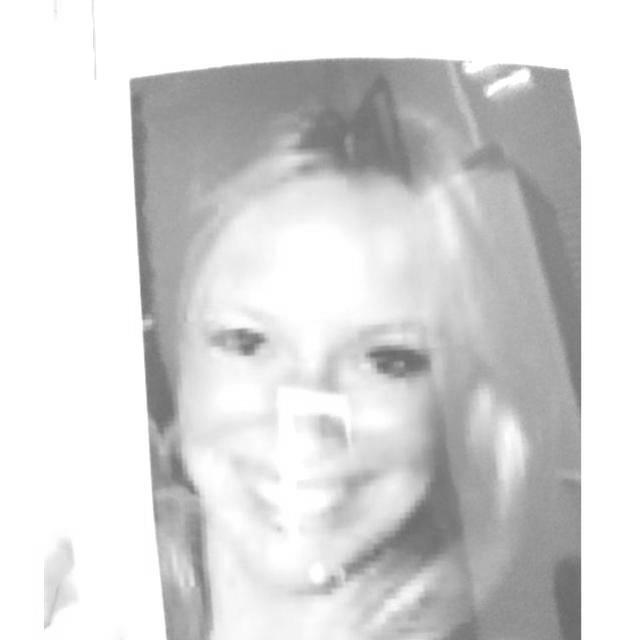fake: (46, 48, 582, 640)
